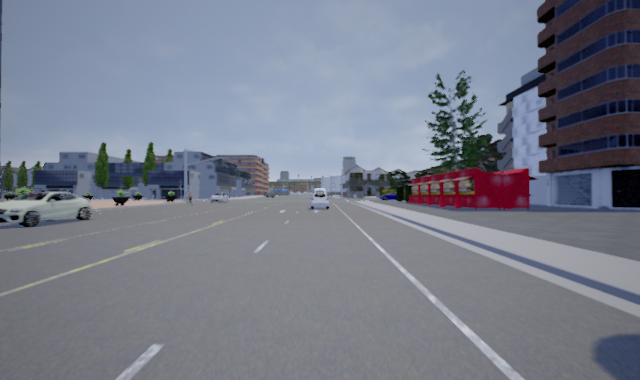vehicle: (1, 191, 92, 227), (308, 187, 331, 211), (209, 192, 230, 204)
